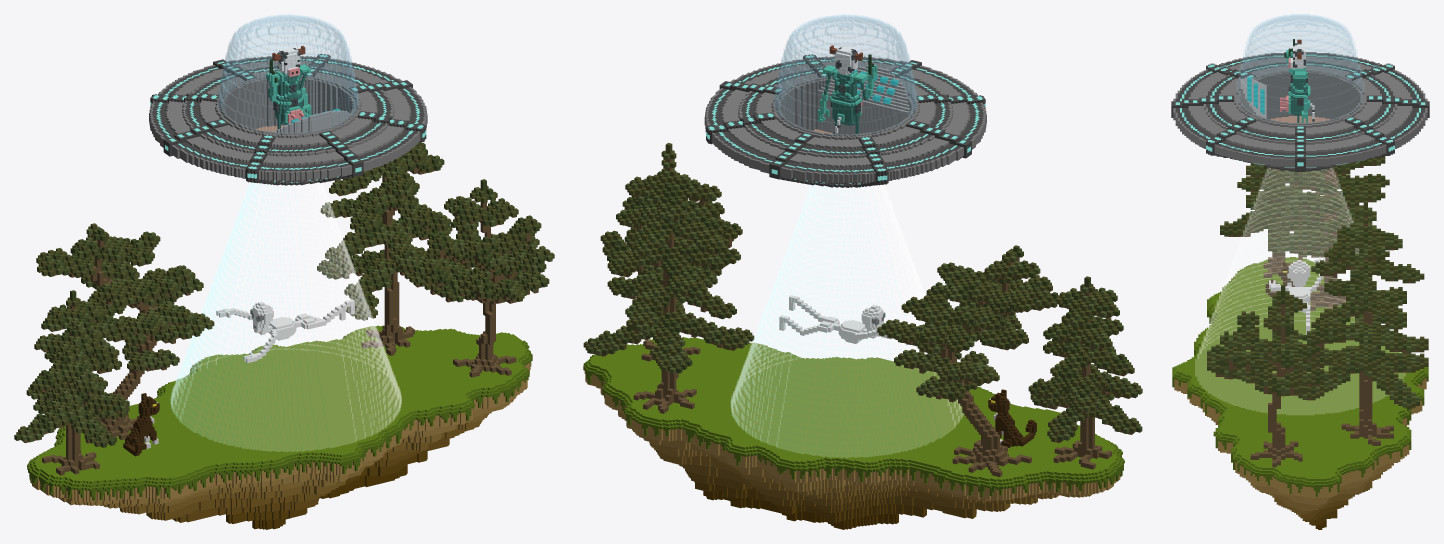
Rendered from space_farm.glb.
3 views of the same model, side by side, from view 1: azimuth 30°, elevation 25°; view 2: azimuth 150°, elevation 25°; view 3: azimuth 270°, elevation 25° (orthographic). The views are drawn at different scales.
Visible parts, largest first — view 1: ray, terrain_cz3.001, terrain_cz1, tree_004.001, solid, tree_002.001, glass, terrain_cz2, metal, tree_005.001, tree_003, terrain_cz4.001 (+4 smaller); view 2: ray, terrain_cz3.001, tree_004.001, tree_002.001, solid, terrain_cz2, terrain_cz1, glass, metal, tree_003, terrain_cz4.001, lights (+4 smaller); view 3: ray, tree_004.001, terrain_cz1, solid, glass, metal, tree_005.001, tree_002.001, terrain_cz2, tree_003, interior, terrain_cz4.001 (+5 smaller).
Boxes of the visible parts, x1,y1,x2,y2 form: ray: [170, 182, 401, 451]; terrain_cz3.001: [129, 355, 351, 529]; terrain_cz1: [319, 325, 532, 486]; tree_004.001: [317, 142, 470, 355]; solid: [150, 46, 426, 185]; tree_002.001: [36, 223, 214, 443]; glass: [218, 14, 358, 134]; terrain_cz2: [215, 340, 416, 518]; metal: [149, 56, 427, 183]; tree_005.001: [418, 179, 554, 377]; tree_003: [14, 290, 129, 475]; terrain_cz4.001: [27, 409, 210, 520]; ray: [731, 185, 963, 457]; terrain_cz3.001: [781, 367, 1016, 529]; tree_004.001: [583, 143, 754, 413]; tree_002.001: [877, 245, 1062, 477]; solid: [706, 45, 985, 187]; terrain_cz2: [699, 357, 907, 528]; terrain_cz1: [583, 337, 798, 508]; glass: [774, 14, 916, 136]; metal: [704, 56, 986, 185]; tree_003: [1028, 276, 1142, 469]; terrain_cz4.001: [932, 405, 1124, 511]; lights: [706, 55, 985, 185]; ray: [1195, 168, 1405, 414]; tree_004.001: [1298, 200, 1428, 445]; terrain_cz1: [1213, 410, 1411, 529]; solid: [1171, 39, 1429, 171]; glass: [1237, 14, 1363, 124]; metal: [1173, 52, 1427, 169]; tree_005.001: [1207, 285, 1341, 467]; tree_002.001: [1272, 155, 1389, 310]; terrain_cz2: [1172, 369, 1428, 425]; tree_003: [1220, 163, 1324, 279]; interior: [1238, 71, 1362, 124]; terrain_cz4.001: [1207, 257, 1341, 323].
Size of the model in its own units: 258 by 227 by 119.
19 materials, 19 textured.
